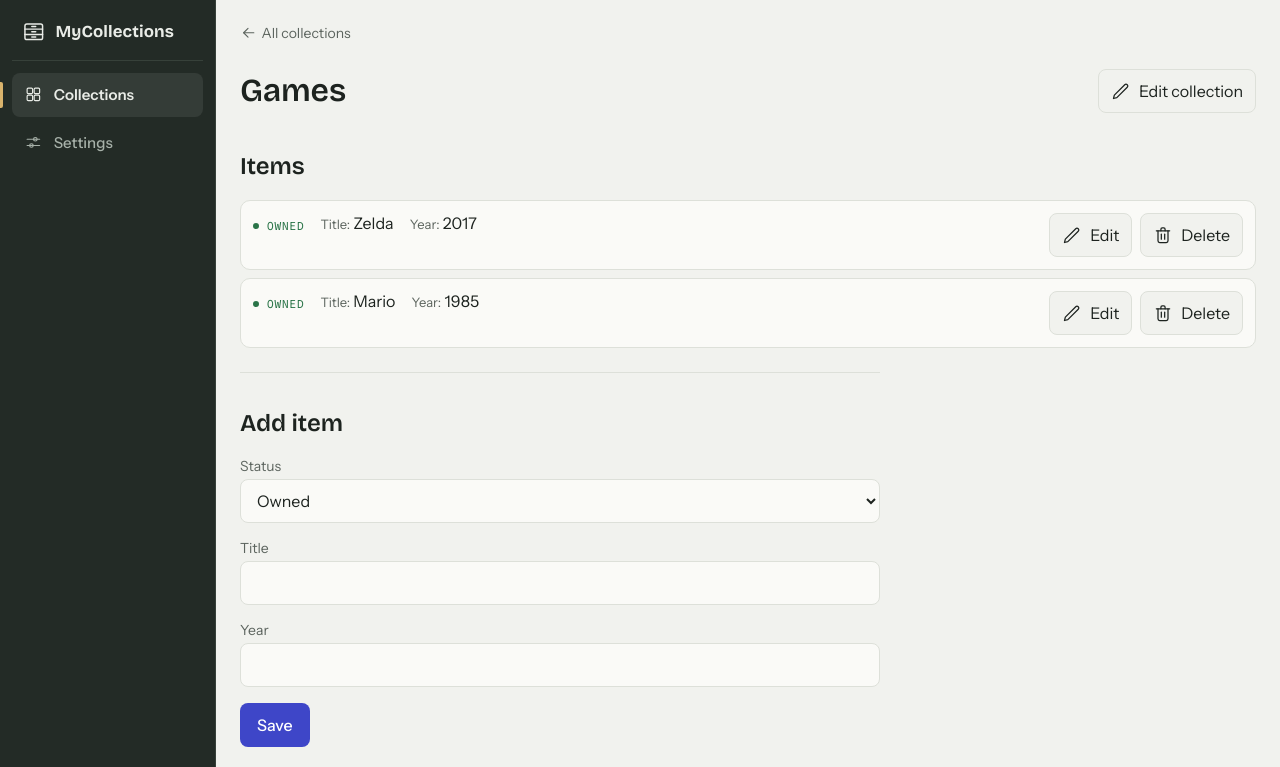
Test: CollectionDetailPage › mutation failures (#237) › attaches a delete error to the row that failed, not to its siblings
expect the text "Zelda" is shown: met, box [353,213,394,233]
Click the button "Delete" in the row of "2017" at (1192, 235), box [1140,213,1243,257]
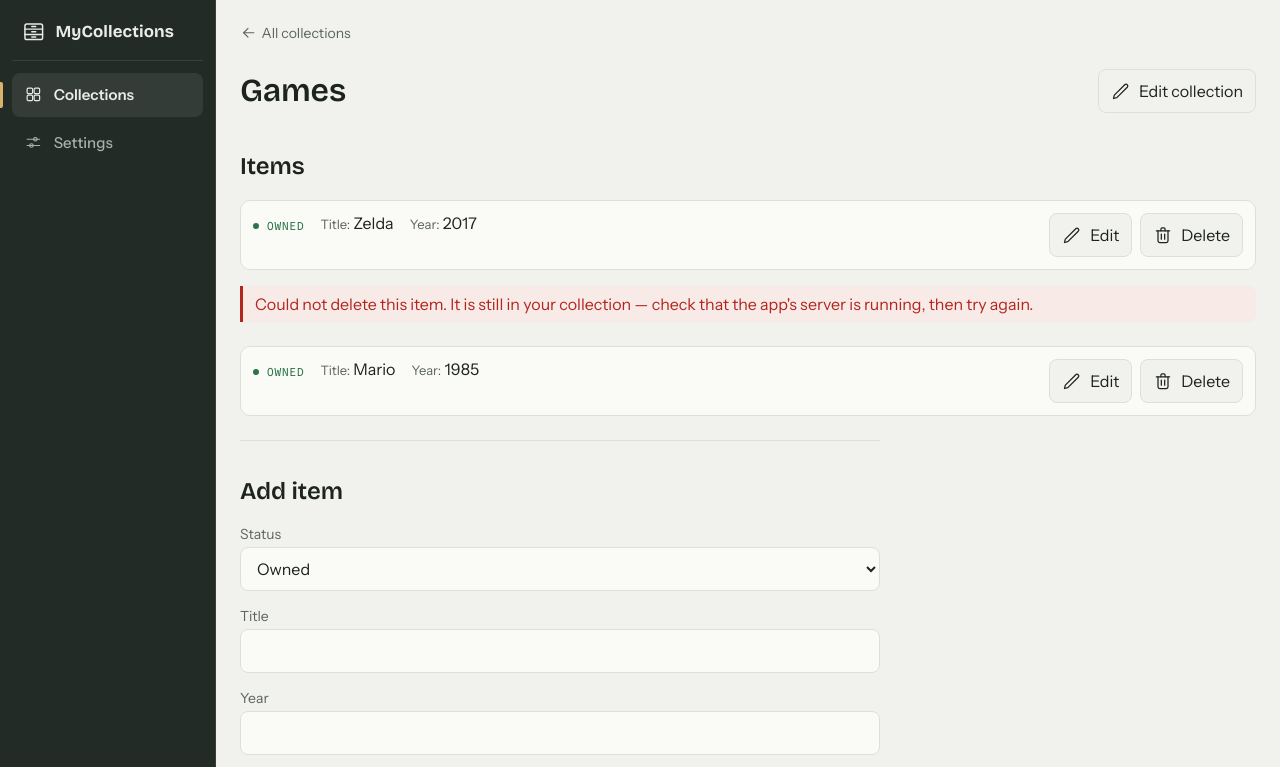
expect the message shows "Could not delete this item": met, box [255,294,1033,314]
